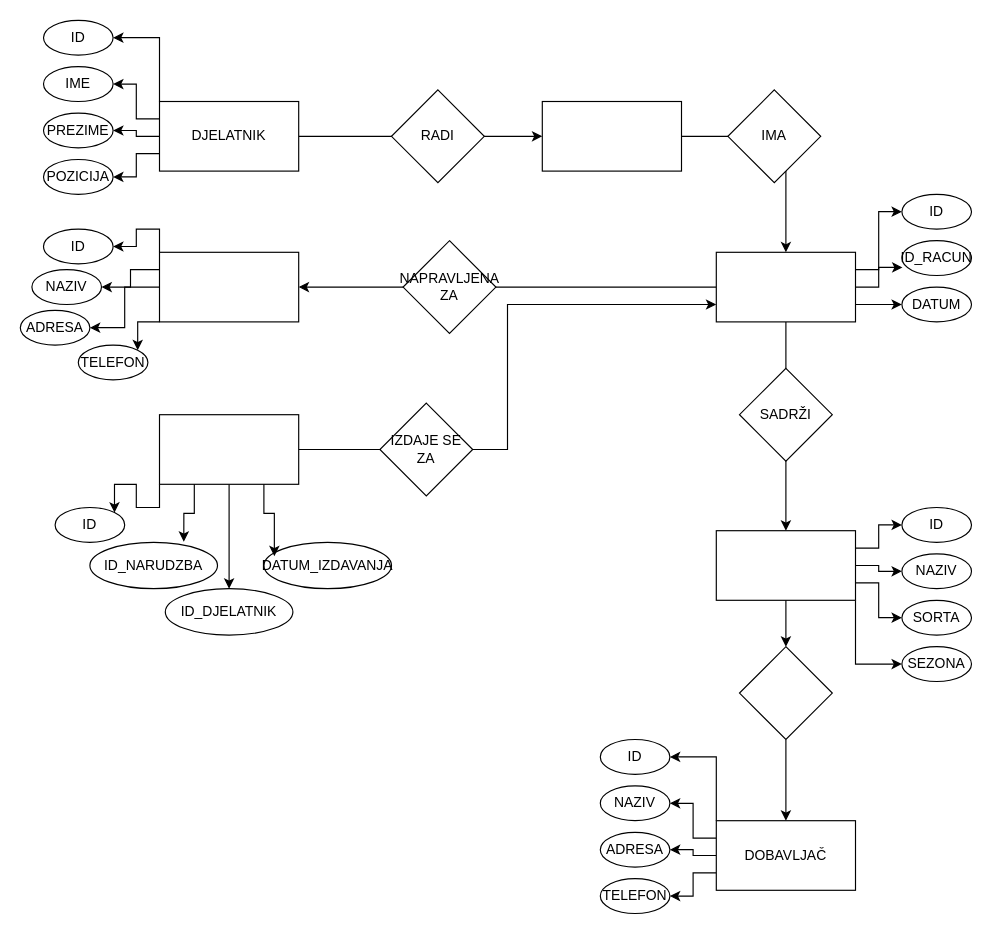
This 992x934 diagram has some shape labels left out. The centre of each missing label's shape, as x and y in pixels:
KUPAC: the point at 228,286
NABAVLJENO OD: the point at 785,693
NARUDŽBA: the point at 785,286
RAČUN: the point at 228,449
VOĆARSTVO: the point at 611,135
VOĆE: the point at 785,565
